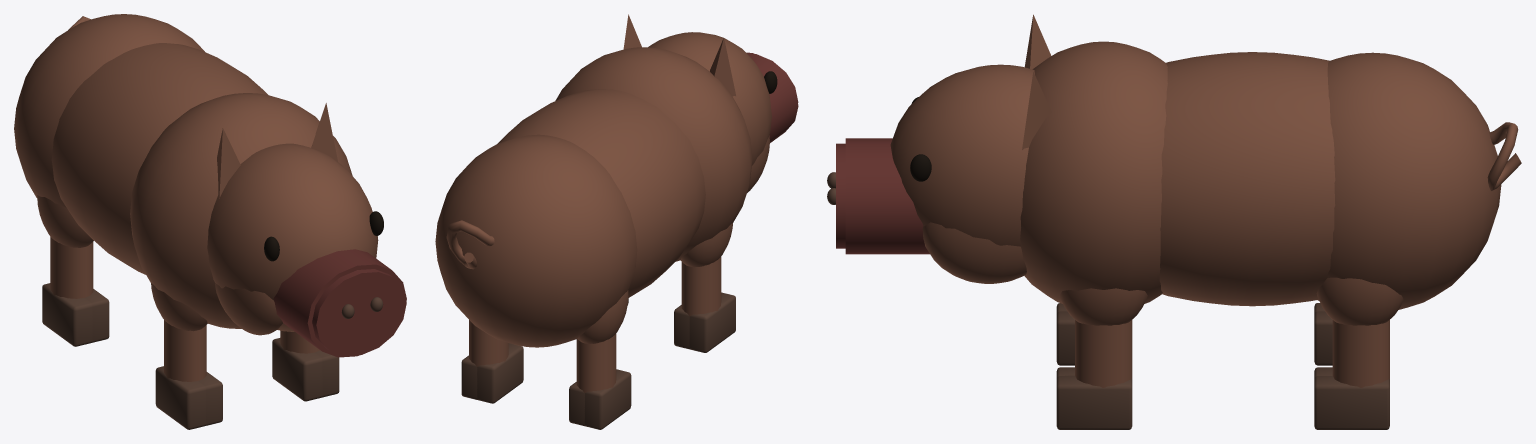
The model's file is PIG_DOMESTIC_BOAR_ADULT_LODs.fbx.
The picture shows the model from 3 angles, left to right: view 1: azimuth 30°, elevation 25°; view 2: azimuth 150°, elevation 25°; view 3: azimuth 270°, elevation 25°; orthographic projection. The views are drawn at different scales.
Parts seen in each view (by area): view 1: PIG_DOMESTIC_BOAR_ADULT_LOD0; view 2: PIG_DOMESTIC_BOAR_ADULT_LOD0; view 3: PIG_DOMESTIC_BOAR_ADULT_LOD0.
Part boxes in pixels (x1,y1,x2,y2): PIG_DOMESTIC_BOAR_ADULT_LOD0: [14, 14, 406, 429]; PIG_DOMESTIC_BOAR_ADULT_LOD0: [435, 14, 798, 429]; PIG_DOMESTIC_BOAR_ADULT_LOD0: [827, 14, 1521, 429].
Size of what is drawn, in the model's own units: 0.68 by 0.98 by 1.78.
